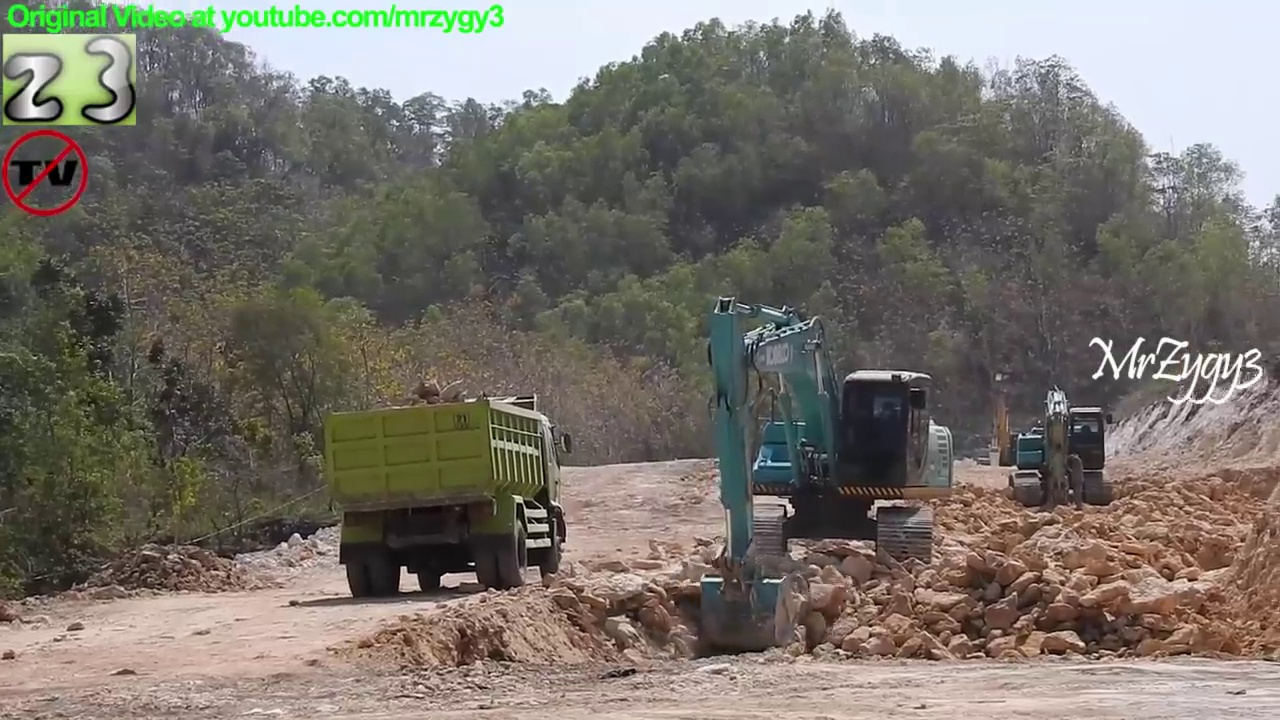excavator: (691, 289, 962, 661), (971, 365, 1037, 471)
excavator breaker: (1003, 382, 1112, 519)
truck: (317, 390, 574, 605)
worker: (1060, 444, 1096, 514)
